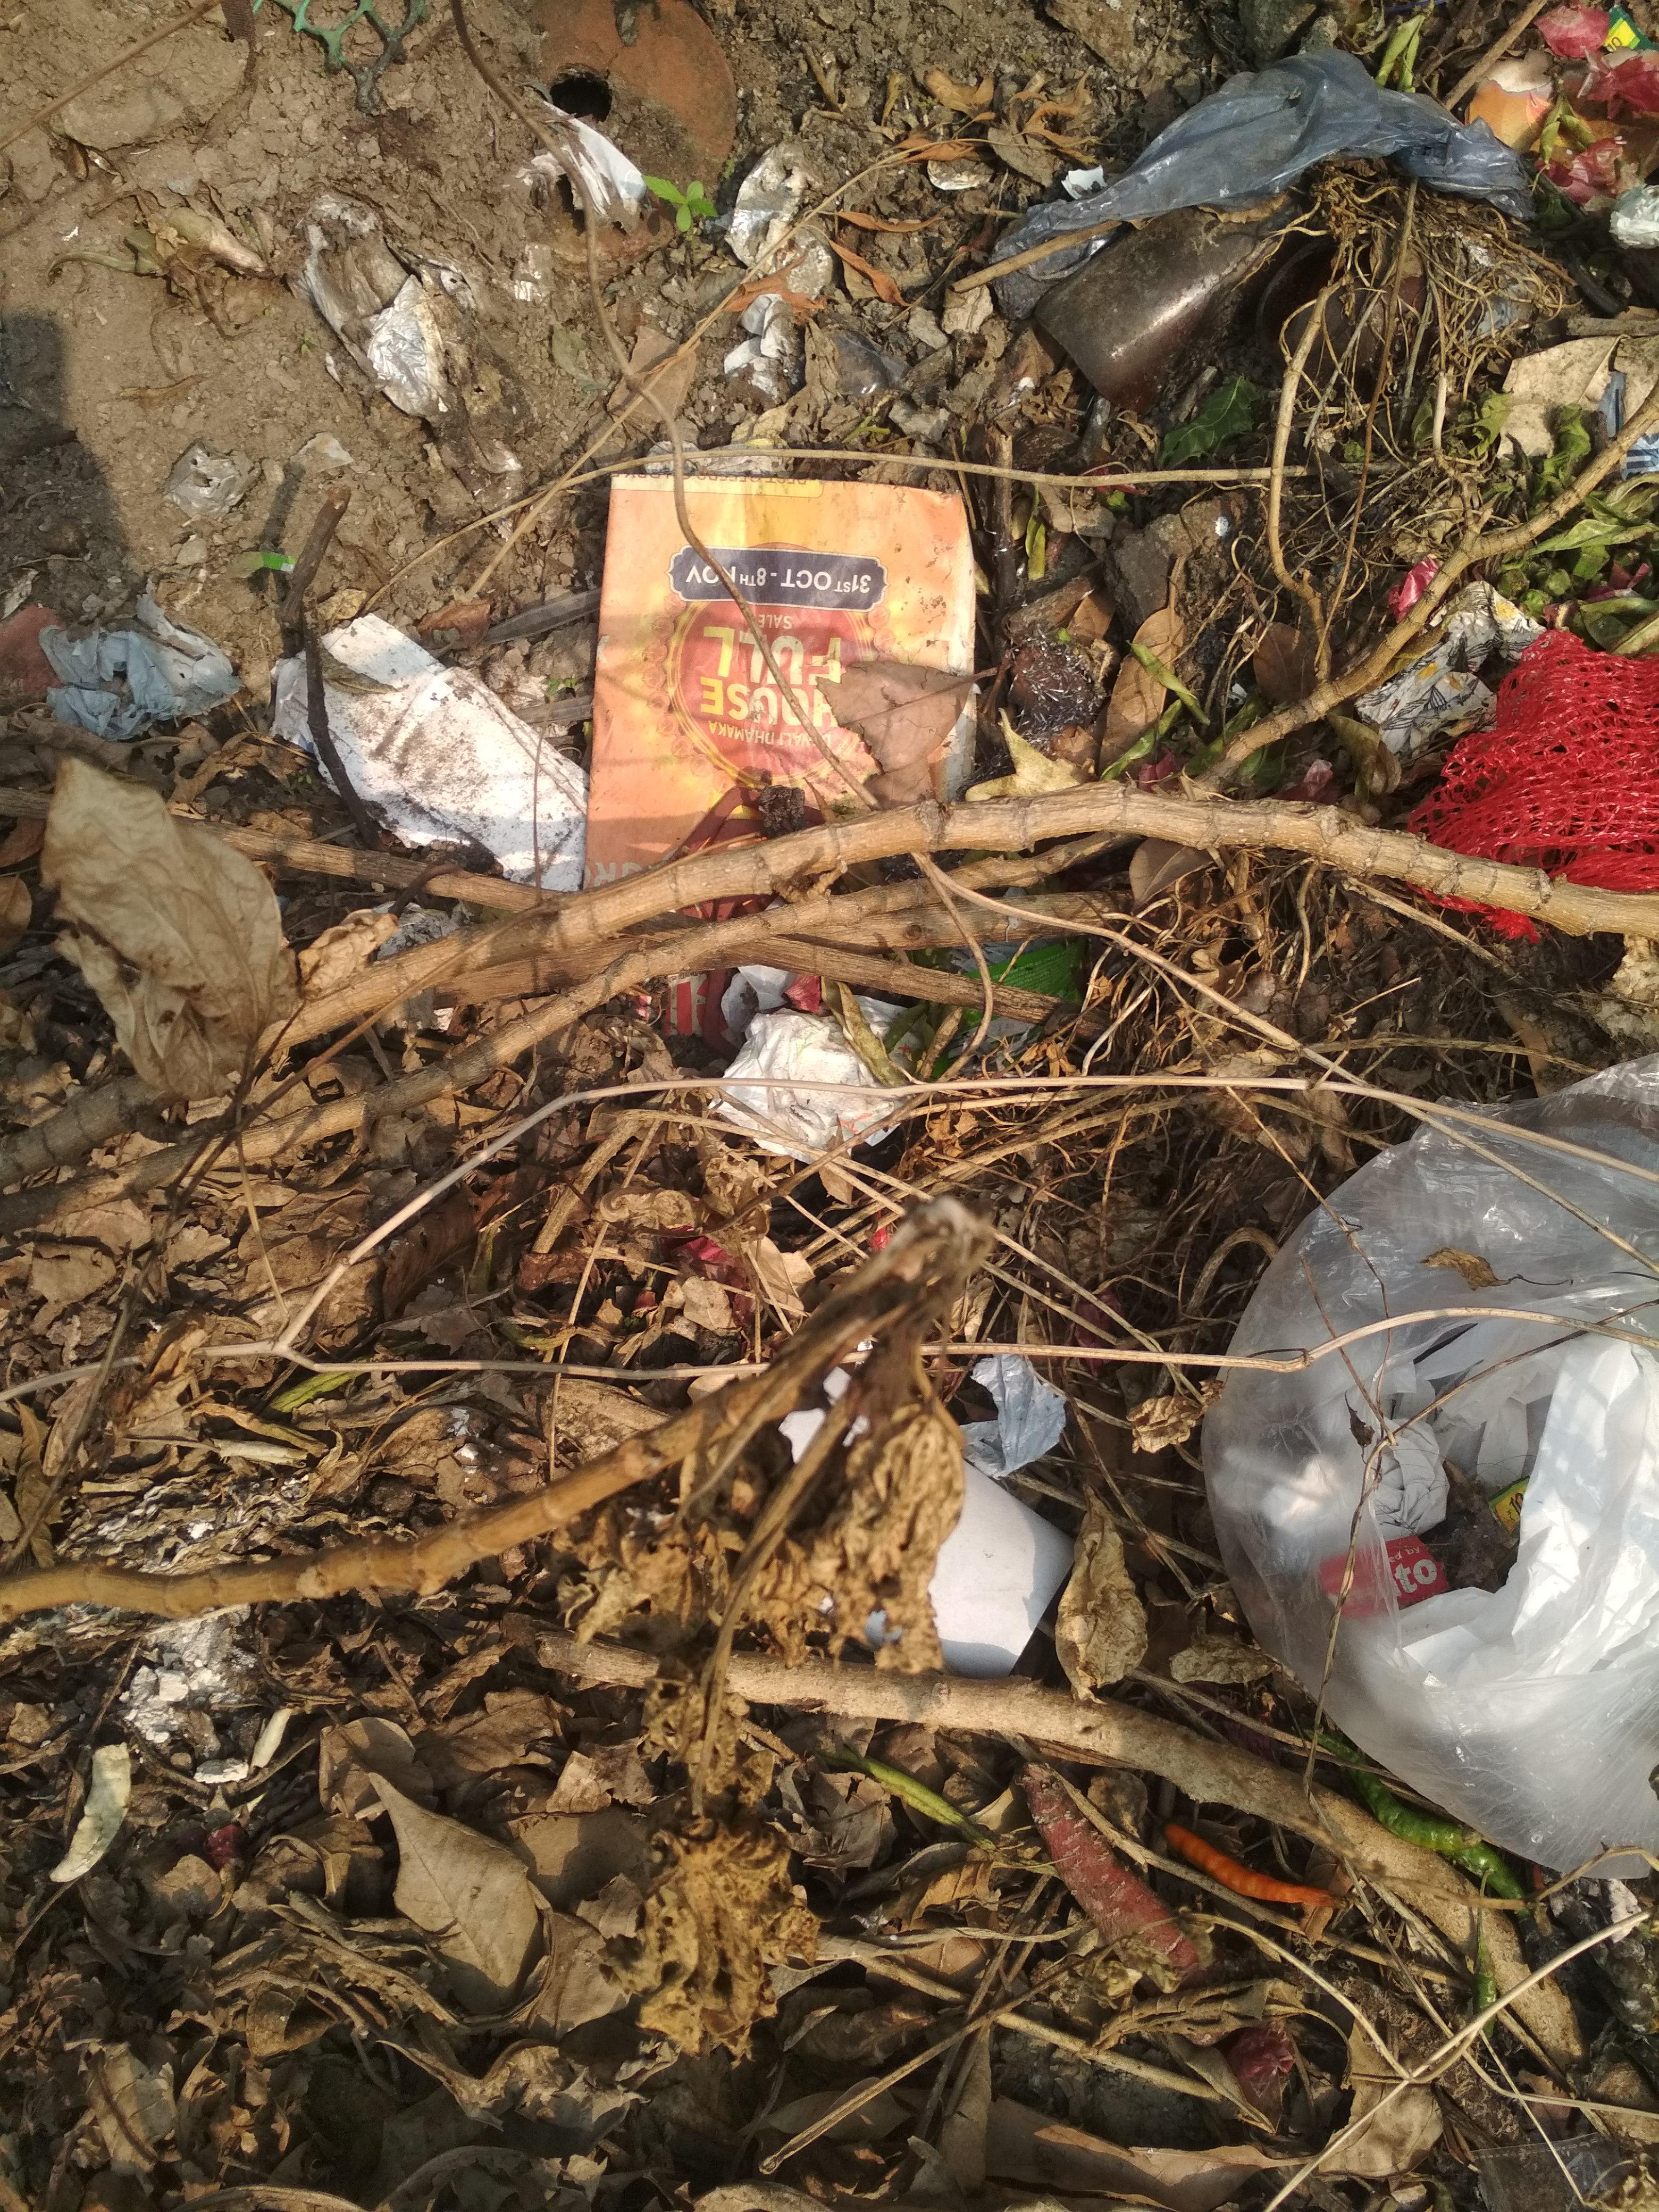organic: (51, 37, 1659, 1940)
